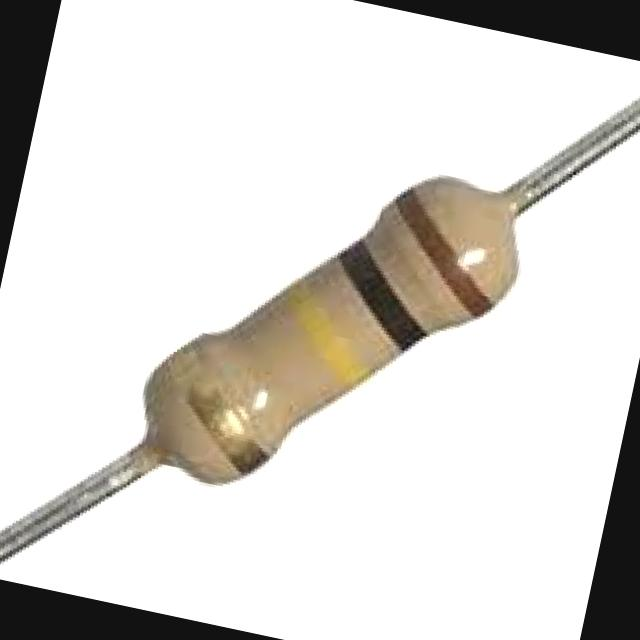Resistor: (145, 179, 513, 482)
black: (336, 237, 426, 353)
brown: (388, 183, 493, 320)
gold: (162, 338, 272, 477)
yellow: (279, 272, 373, 393)
